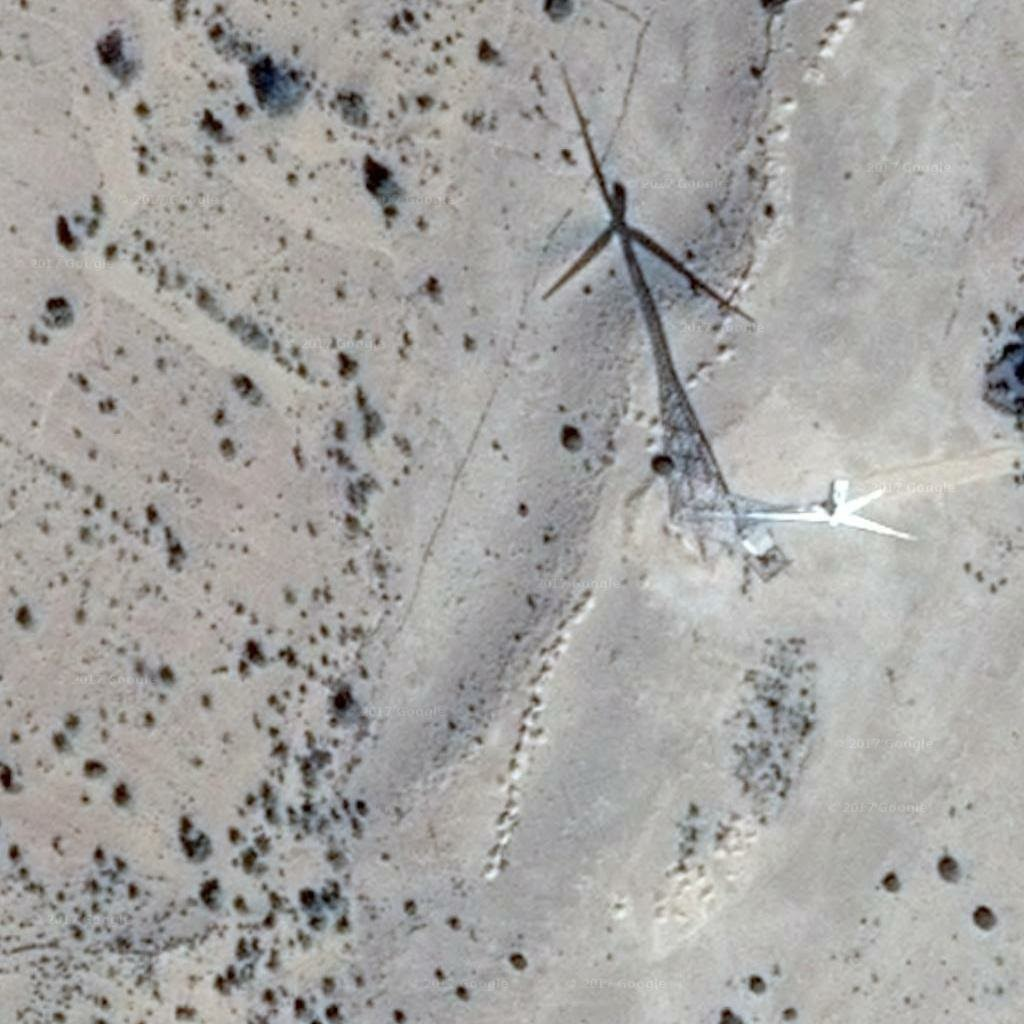Windmill: (527, 56, 793, 506)
